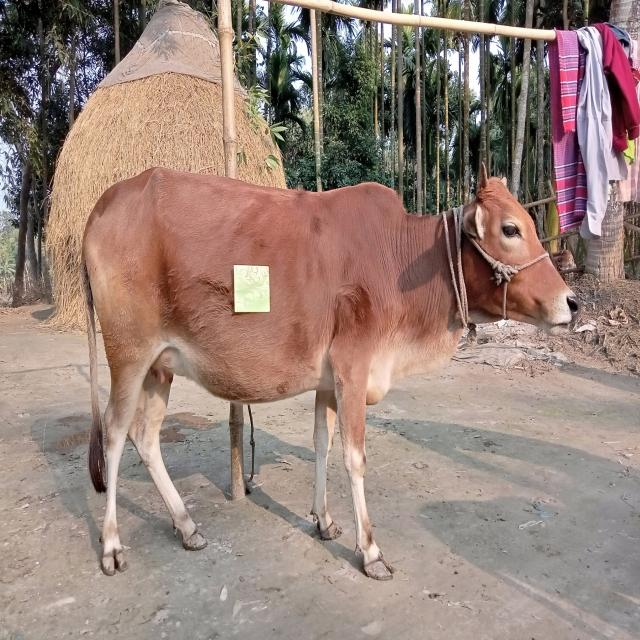badan_sapi: (102, 191, 368, 392)
sapi: (76, 163, 585, 584)
